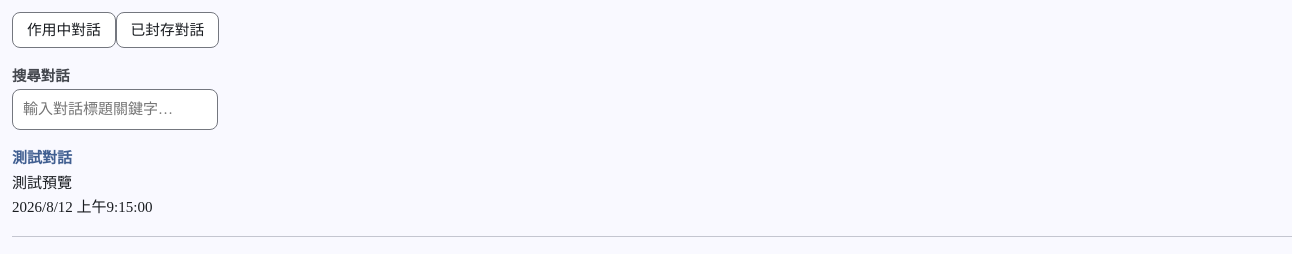
Test: ConversationList archived view (E03-S026) › clicking 已封存對話 re-fetches with archived=true
expect the text "測試對話" is shown: met, box [12, 150, 72, 166]
What coordinates should you click on to do the following:
click the button "已封存對話"
I would click on:
 (167, 30)
Its box is [116, 12, 219, 48].
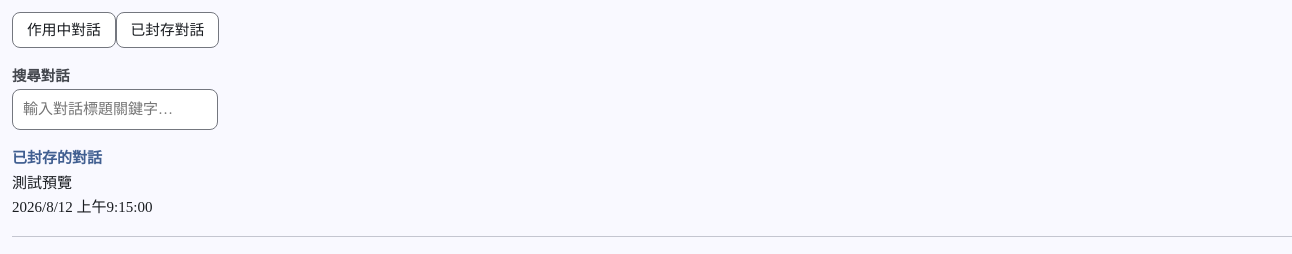
expect the text "已封存的對話" is shown: met, box [12, 150, 102, 166]
